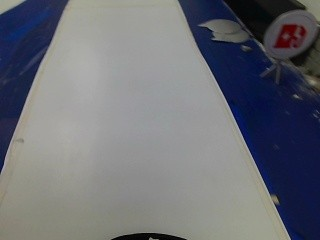battery: (264, 10, 313, 64)
